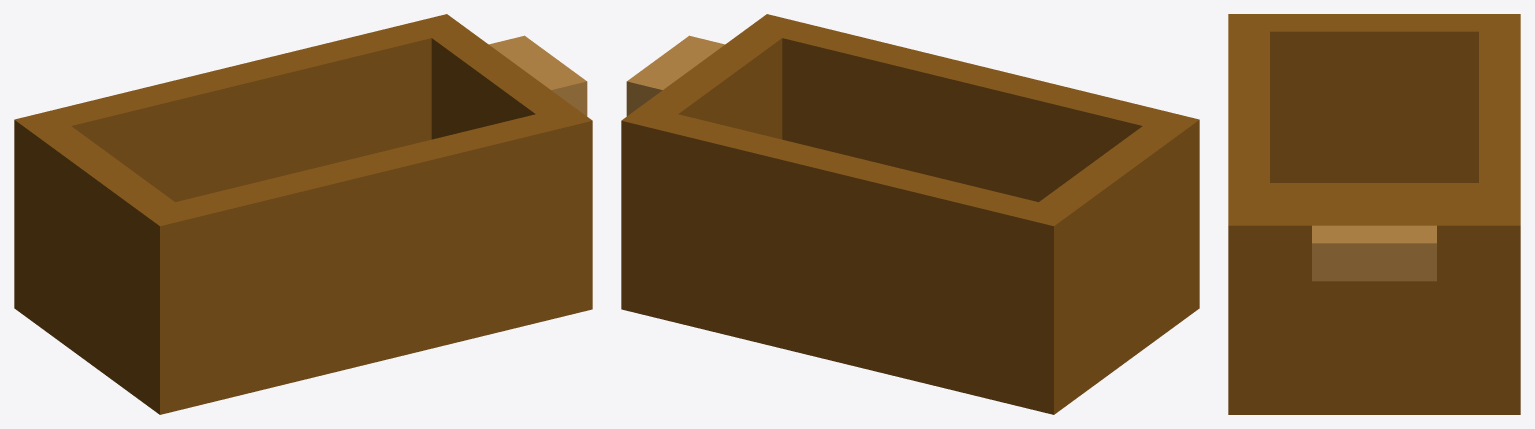
File: Cabinet00-drawer1.gltf
3 renders of one model, left to right at view 1: azimuth 30°, elevation 25°; view 2: azimuth 150°, elevation 25°; view 3: azimuth 270°, elevation 25°, orthographic.
Visible parts, largest first — view 1: Layer.1; view 2: Layer.1; view 3: Layer.1.
Part boxes in pixels (x1=…): Layer.1: x1=14, y1=14, x2=592, y2=414; Layer.1: x1=621, y1=14, x2=1199, y2=414; Layer.1: x1=1228, y1=14, x2=1520, y2=414.
Size of the model in its own units: 13 by 5 by 7.
